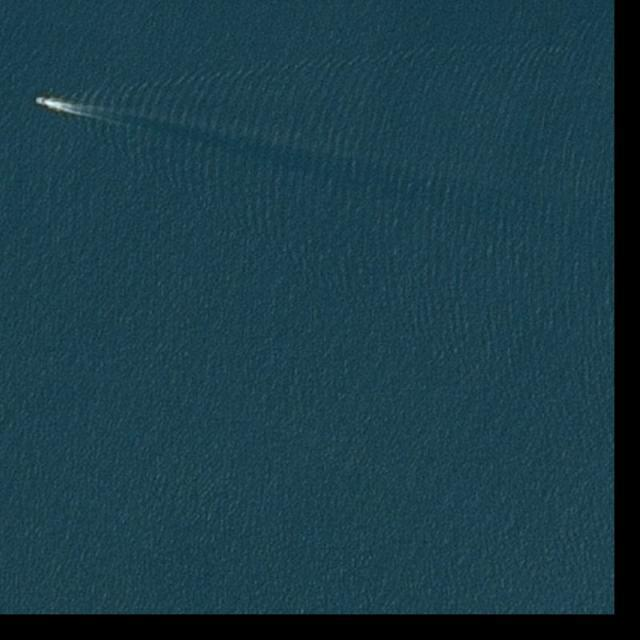ship: (36, 98, 46, 106)
